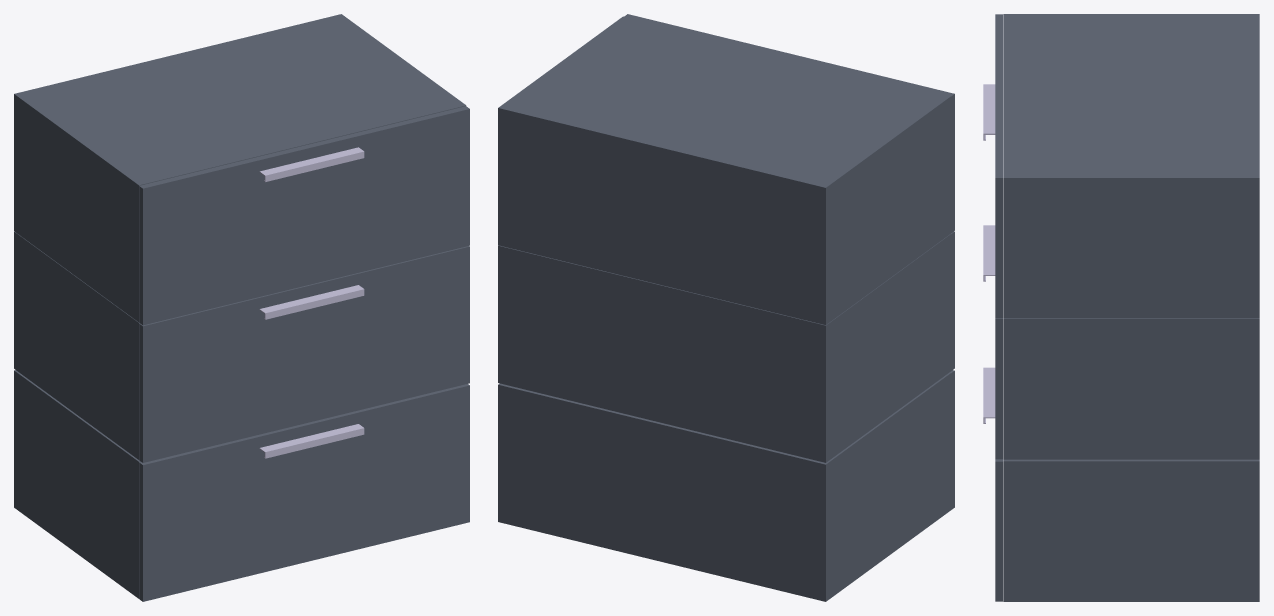
The model's file is Cabinet1.fbx.
The picture shows the model from 3 angles, left to right: view 1: azimuth 30°, elevation 25°; view 2: azimuth 150°, elevation 25°; view 3: azimuth 270°, elevation 25°; orthographic projection. The views are drawn at different scales.
Visible parts, largest first — view 1: Cabinet1.009, Cabinet1_Door.009, Cabinet1_Door.003, Cabinet1_Door.004, Cabinet1.003, Cabinet1.004, Handle.009, Handle.003, Handle.004; view 2: Cabinet1.009, Cabinet1.003, Cabinet1.004, Cabinet1_Door.009; view 3: Cabinet1.009, Cabinet1.003, Cabinet1.004, Cabinet1_Door.009, Cabinet1_Door.003, Cabinet1_Door.004, Handle.003, Handle.004, Handle.009.
Part boxes in pixels (x1=…): Cabinet1.009: x1=14, y1=14, x2=466, y2=322; Cabinet1_Door.009: x1=139, y1=106, x2=469, y2=325; Cabinet1_Door.003: x1=139, y1=384, x2=469, y2=601; Cabinet1_Door.004: x1=139, y1=246, x2=469, y2=462; Cabinet1.003: x1=14, y1=370, x2=140, y2=598; Cabinet1.004: x1=14, y1=231, x2=139, y2=459; Handle.009: x1=259, y1=147, x2=364, y2=181; Handle.003: x1=259, y1=424, x2=364, y2=458; Handle.004: x1=259, y1=285, x2=364, y2=319; Cabinet1.009: x1=498, y1=16, x2=950, y2=324; Cabinet1.003: x1=498, y1=373, x2=950, y2=601; Cabinet1.004: x1=498, y1=234, x2=950, y2=462; Cabinet1_Door.009: x1=624, y1=14, x2=954, y2=233; Cabinet1.009: x1=1003, y1=14, x2=1259, y2=318; Cabinet1.003: x1=1003, y1=459, x2=1259, y2=601; Cabinet1.004: x1=1003, y1=318, x2=1259, y2=459; Cabinet1_Door.009: x1=995, y1=14, x2=1002, y2=318; Cabinet1_Door.003: x1=995, y1=459, x2=1002, y2=601; Cabinet1_Door.004: x1=995, y1=318, x2=1002, y2=459; Handle.003: x1=983, y1=367, x2=995, y2=423; Handle.004: x1=983, y1=225, x2=995, y2=281; Handle.009: x1=983, y1=84, x2=995, y2=140.
Bounding box in the file's own units: 0.4574 × 0.5522 × 0.3259.
